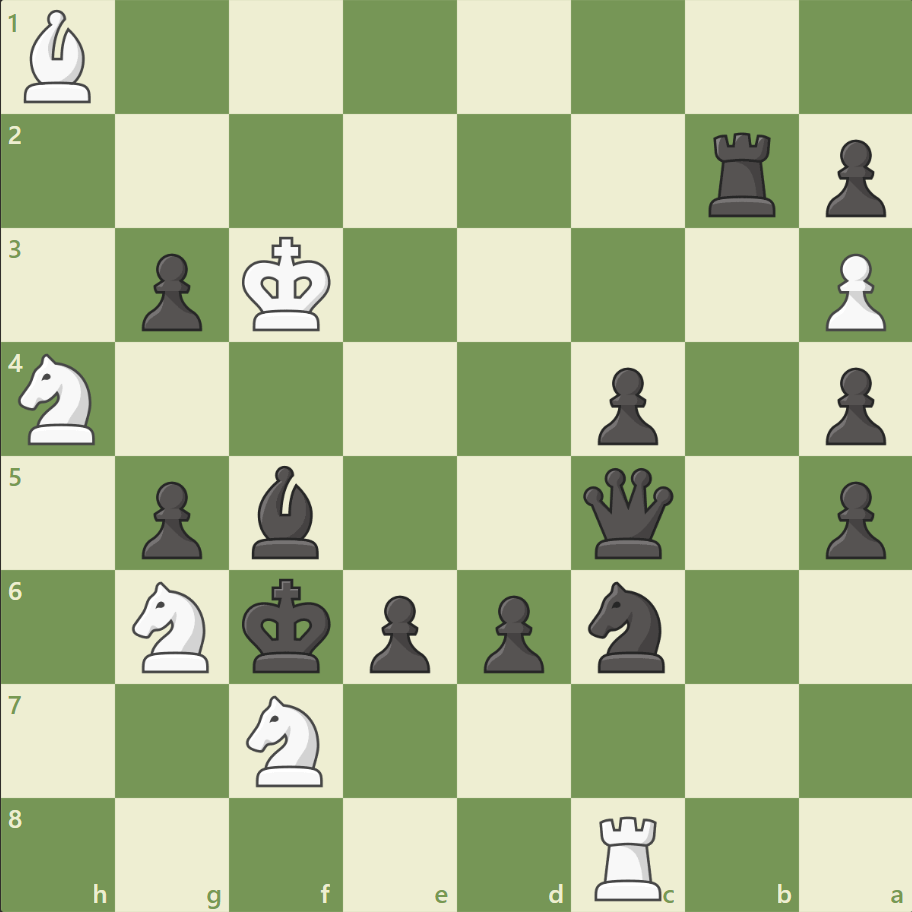B: (17, 6, 101, 109)
K: (238, 231, 338, 339)
N: (124, 575, 222, 677), (238, 688, 335, 791), (11, 348, 108, 450)
P: (815, 246, 889, 337)
R: (587, 806, 670, 904)
b: (244, 460, 328, 563)
k: (238, 571, 338, 679)
n: (579, 575, 676, 677)
p: (474, 586, 549, 677), (133, 473, 208, 564), (133, 246, 208, 337), (361, 586, 435, 677), (815, 473, 889, 564), (815, 359, 889, 450), (588, 359, 662, 450), (815, 132, 889, 223)
q: (578, 463, 677, 562)
r: (700, 125, 783, 222)
